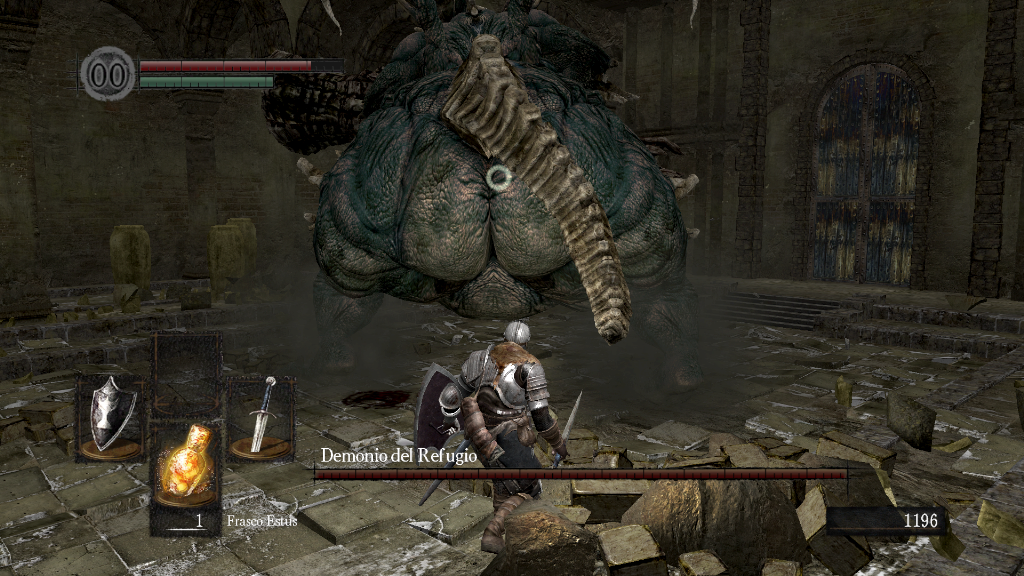asylumDemon: (265, 2, 716, 395)
bossHP: (314, 469, 847, 479)
health: (138, 58, 343, 71)
humanity: (80, 45, 136, 102)
player: (411, 319, 586, 552)
souls: (825, 506, 945, 536)
stamina: (138, 74, 274, 88)
